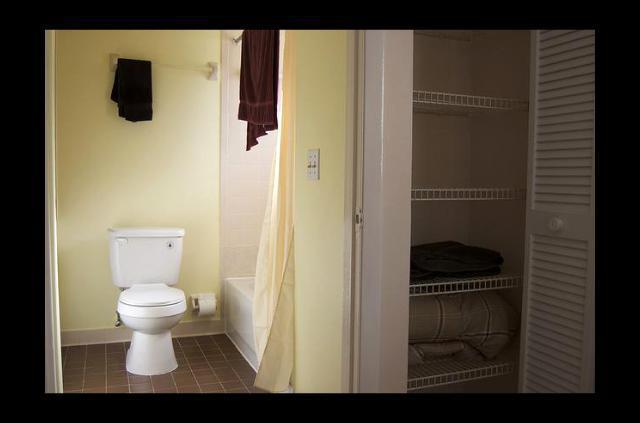Armario: (385, 34, 590, 392)
Sanitario: (108, 226, 191, 378)
